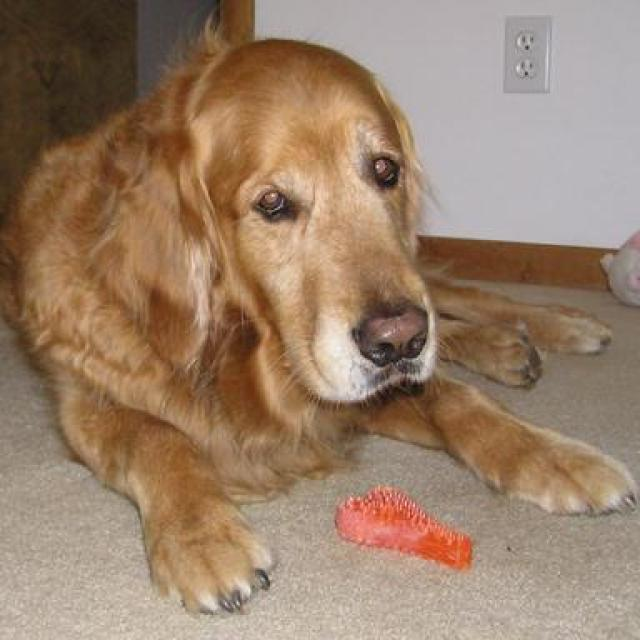sad: (0, 26, 631, 609)
